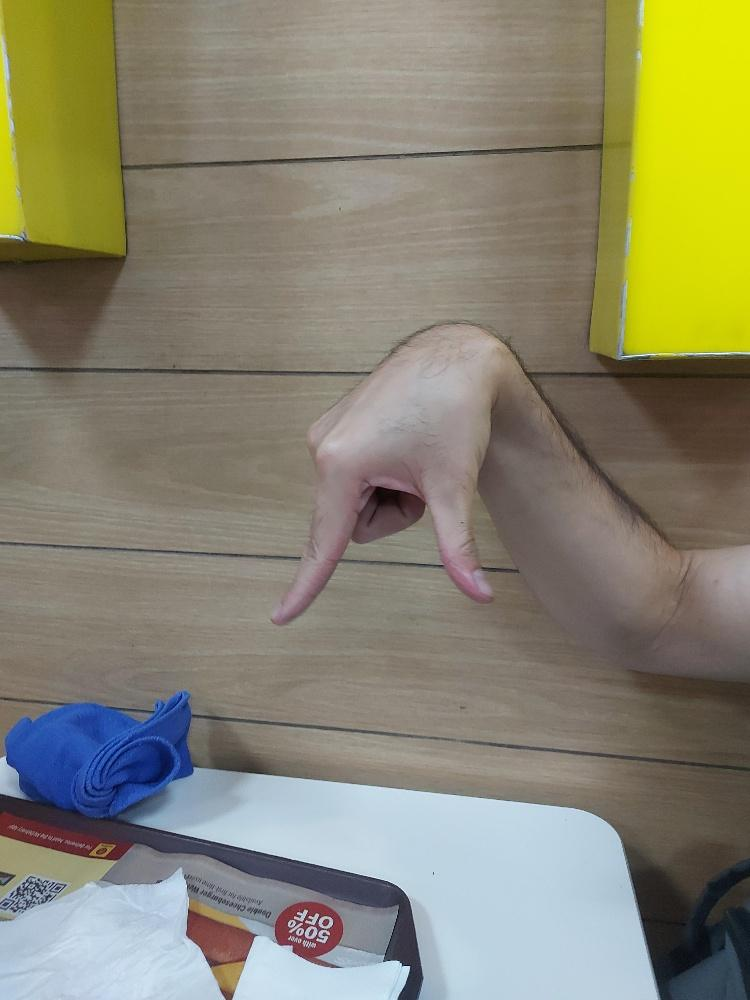q: (267, 319, 498, 632)
